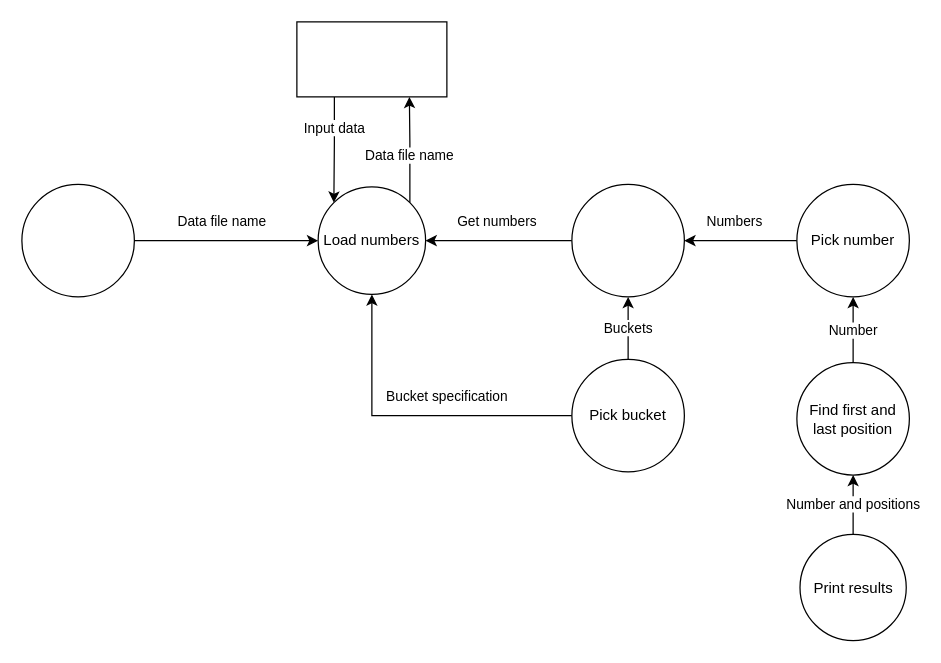
Image size: 941x663. Some labels were removed from this diagram. The centre of each missing label's shape, as x and y in pixels:
"Generate histogram" goes at (627,240).
"OS" goes at (371,59).
"Parse arguments" goes at (77,240).
